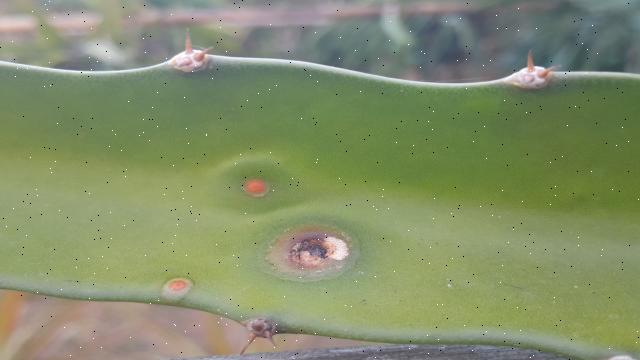stemcanker: (263, 226, 359, 283), (238, 172, 279, 203), (158, 272, 197, 302)
